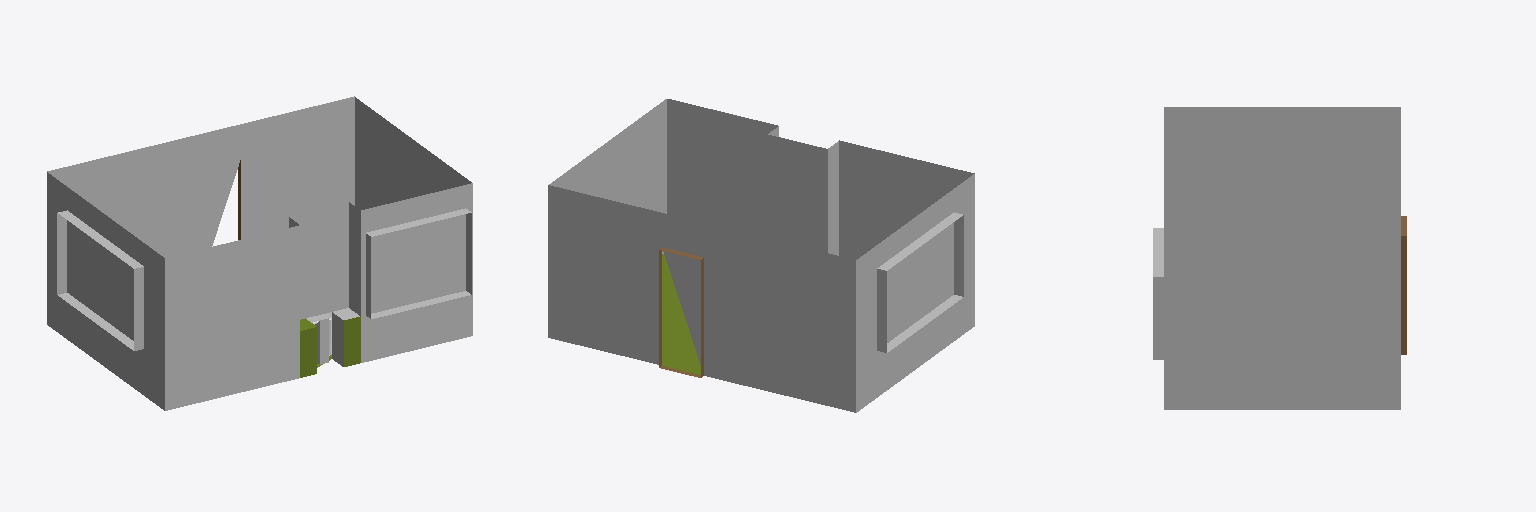
3 renders of one model, left to right at view 1: azimuth 30°, elevation 25°; view 2: azimuth 150°, elevation 25°; view 3: azimuth 270°, elevation 25°, orthographic.
Visible parts, largest first — view 1: living_room; view 2: living_room; view 3: living_room.
Boxes of the visible parts, box(x1,y1,x2,y2) form: living_room: box(47, 96, 472, 410); living_room: box(548, 99, 974, 412); living_room: box(1153, 107, 1406, 409).
Bounding box in the file's own units: 0.0717 × 0.0329 × 0.0498.
6 materials, 2 textured.